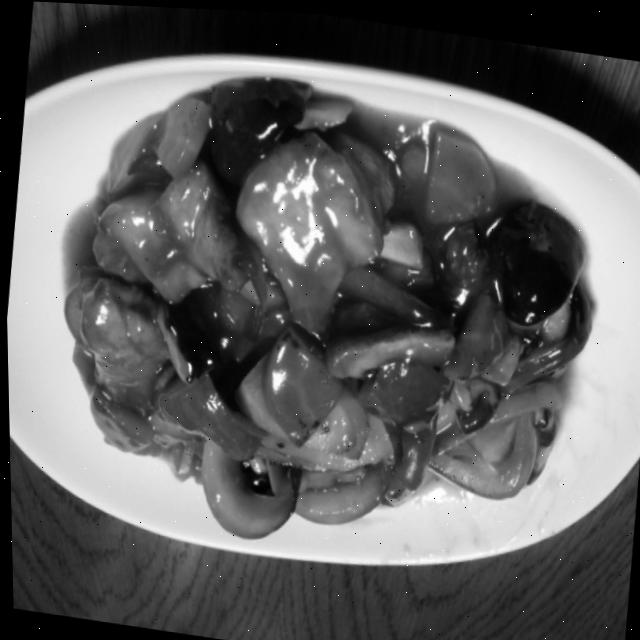猪肉菜式: (26, 47, 612, 585)
